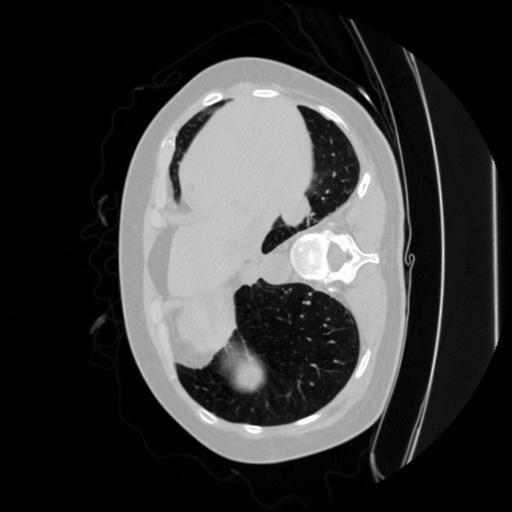nodule: (283, 198, 311, 226)
